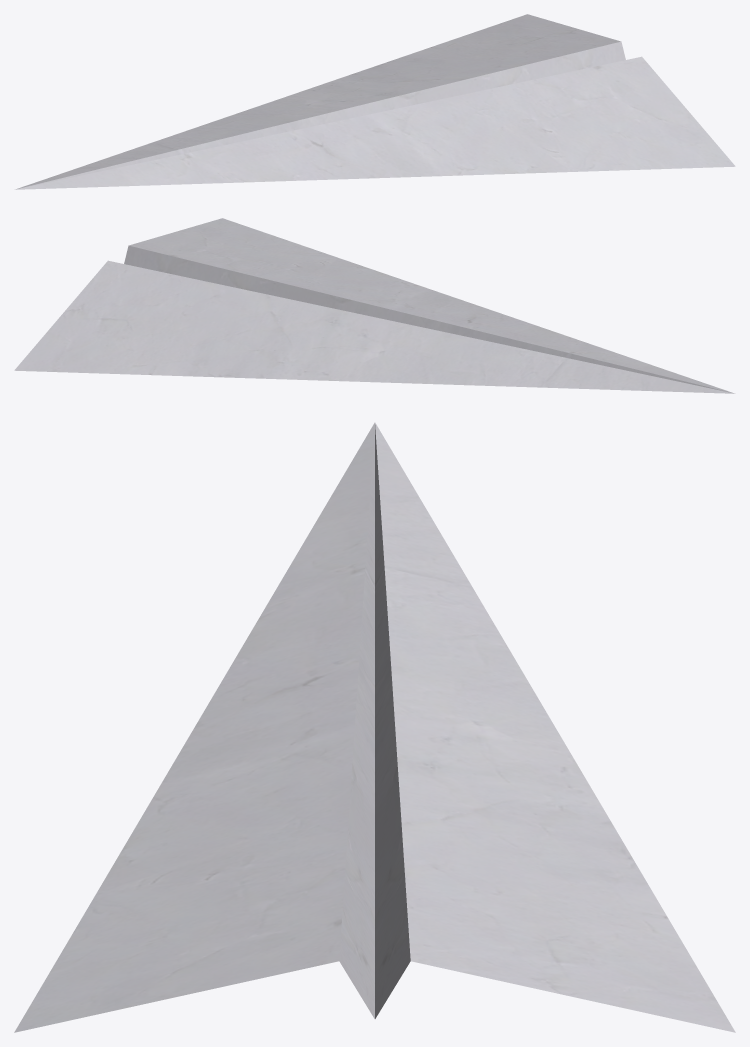
The model's file is classic.glb.
3 renders of one model, top to bottom at view 1: azimuth 30°, elevation 25°; view 2: azimuth 150°, elevation 25°; view 3: azimuth 270°, elevation 25°, orthographic. The views are drawn at different scales.
Parts seen in each view (by area): view 1: Plane; view 2: Plane; view 3: Plane.
Part boxes in pixels (x1,y1,x2,y2): Plane: (14, 14, 735, 189); Plane: (14, 218, 735, 393); Plane: (14, 422, 735, 1032).
Size of the model in its own units: 2 by 0.1588 by 1.17.
1 material, 1 textured.
